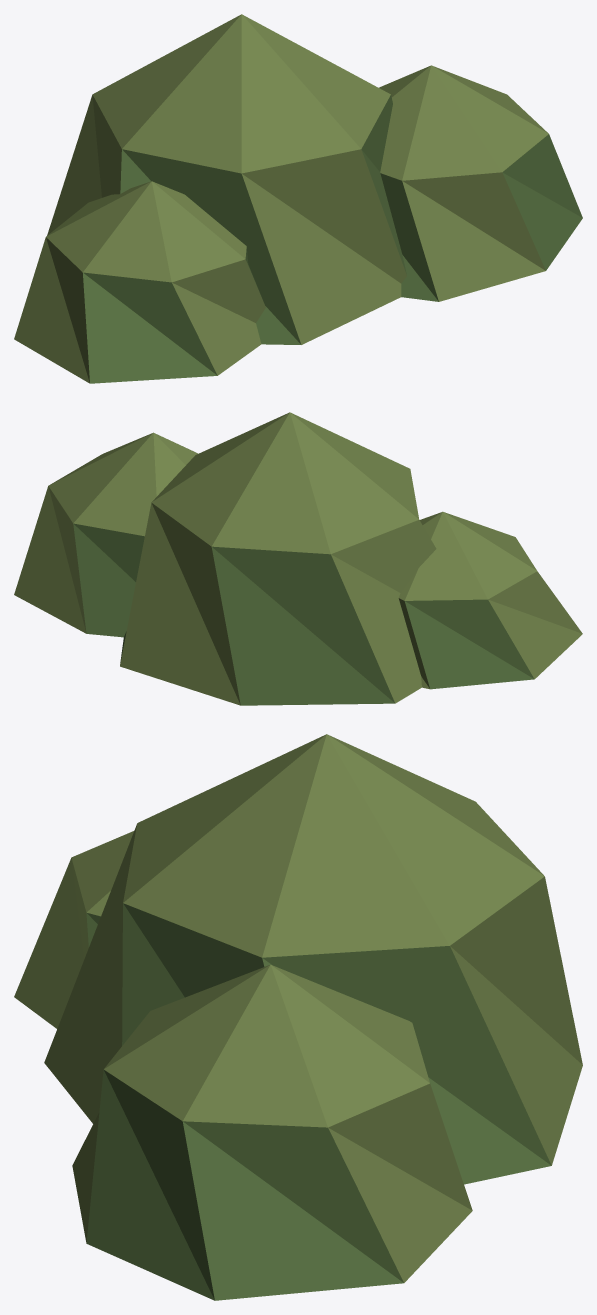
File: bush.glb
3 renders of one model, top to bottom at view 1: azimuth 30°, elevation 25°; view 2: azimuth 150°, elevation 25°; view 3: azimuth 270°, elevation 25°, orthographic. The views are drawn at different scales.
Visible parts, largest first — view 1: bush; view 2: bush; view 3: bush.
Part boxes in pixels (box(x1,y1,x2,y2)): bush: box(14, 14, 582, 383); bush: box(14, 412, 582, 705); bush: box(14, 734, 582, 1300).
Bounding box in the file's own units: 0.8101 × 0.35 × 0.507.
